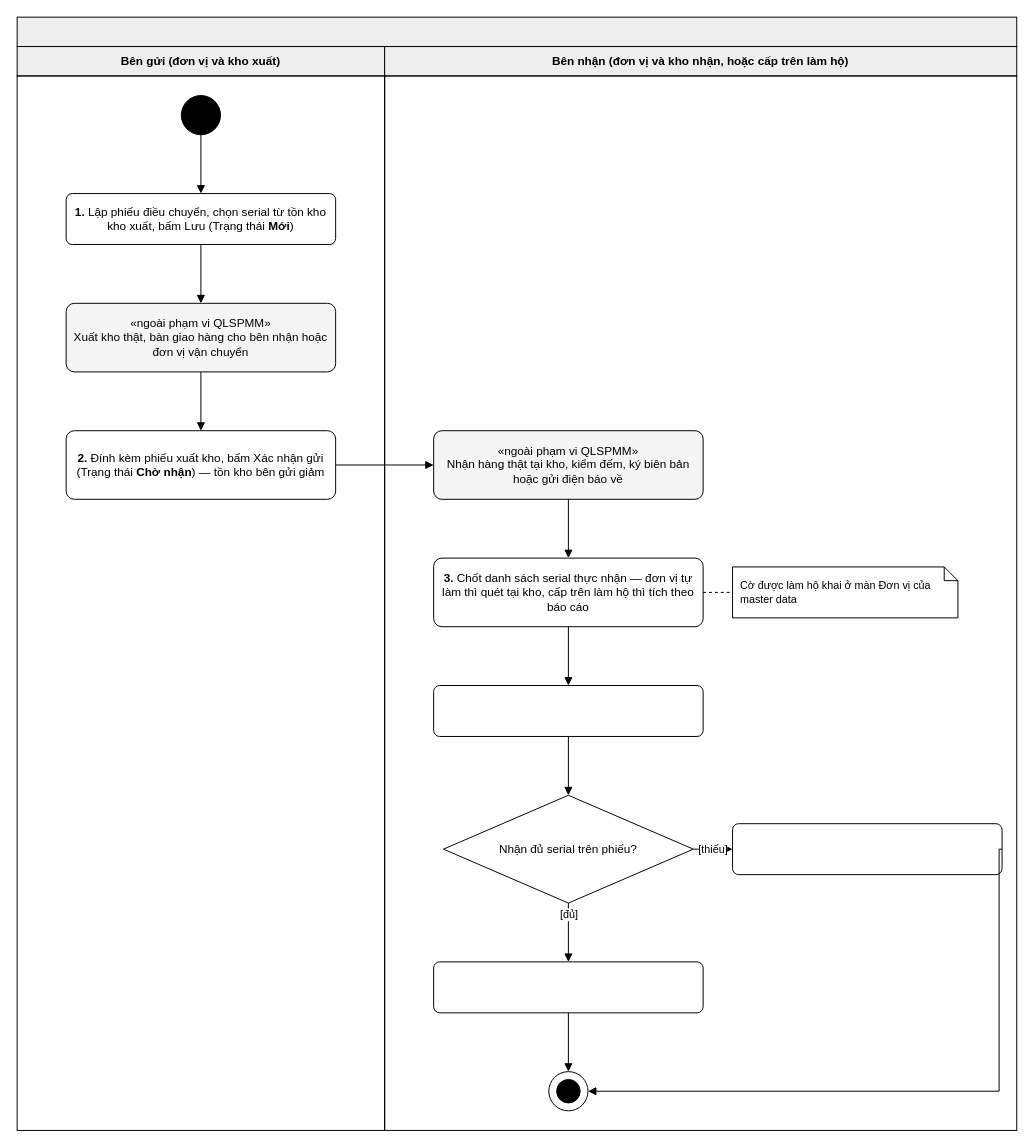
The diagram is 1034 pixels wide and 1148 high, and some of its shapes have lost their labels. The shapes that lost their labels are listed below. From the top down, each one's box as (x1, y1, x2, y2) in pixels, then its label:
(16, 16, 1017, 47): Điều chuyển SPMM — dùng chung cho cả ba loại
(433, 685, 703, 736): 4. Khai Căn cứ nhận (loại, số, ngày), bấm Xác nhận nhận
(732, 823, 1002, 875): Trạng thái Đã nhận thiếu — serial còn lại chuyển sang Thất lạc
(433, 961, 703, 1013): Trạng thái Đã nhận — tồn kho bên nhận tăng đúng danh sách trên phiếu
